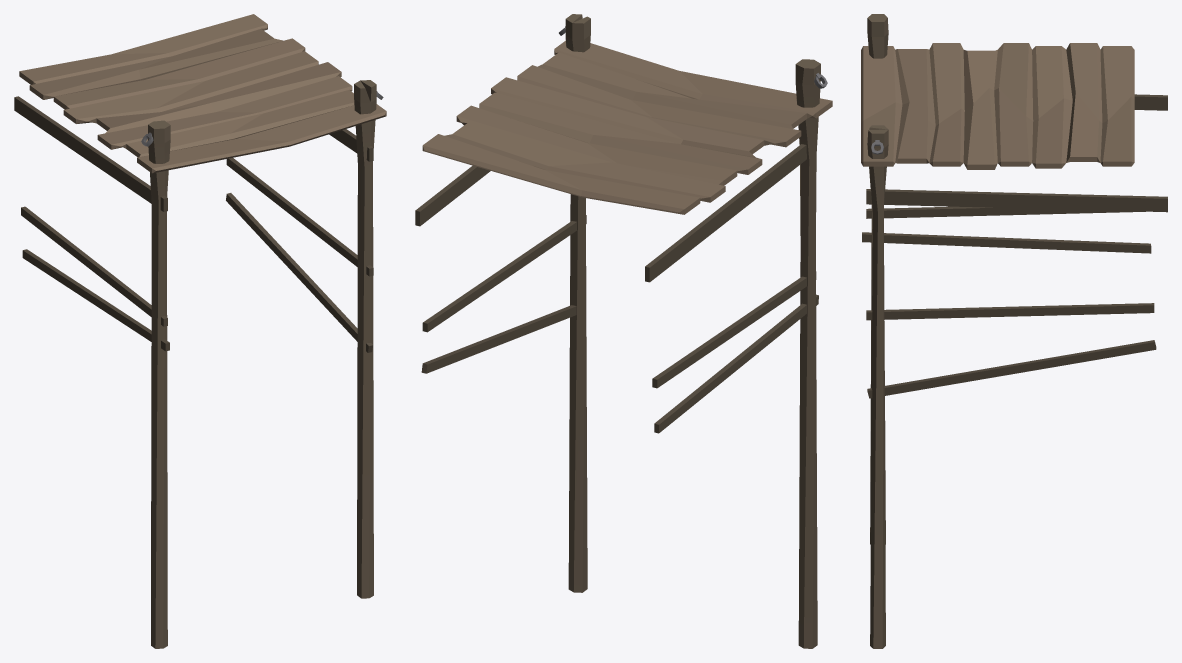
The model's file is SM_Bld_Dock_02.glb.
The picture shows the model from 3 angles, left to right: view 1: azimuth 30°, elevation 25°; view 2: azimuth 150°, elevation 25°; view 3: azimuth 270°, elevation 25°; orthographic projection. The views are drawn at different scales.
Parts seen in each view (by area): view 1: node_id4; view 2: node_id4; view 3: node_id4.
Part boxes in pixels (x1,y1,x2,y2): node_id4: [14, 14, 386, 648]; node_id4: [415, 14, 832, 648]; node_id4: [861, 14, 1167, 648].
Bounding box in the file's own units: 0.2545 × 0.512 × 0.2707.
1 material, 1 textured.
